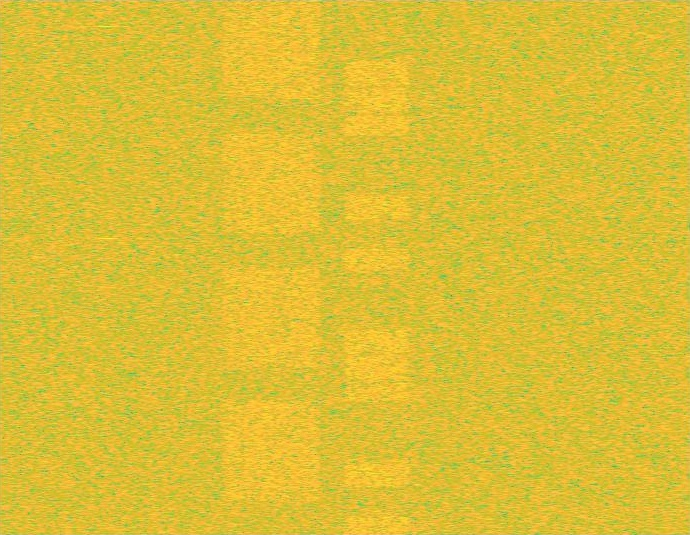5G: (220, 0, 324, 534)
LTE: (343, 0, 412, 534)
Radar: (100, 0, 113, 534)
